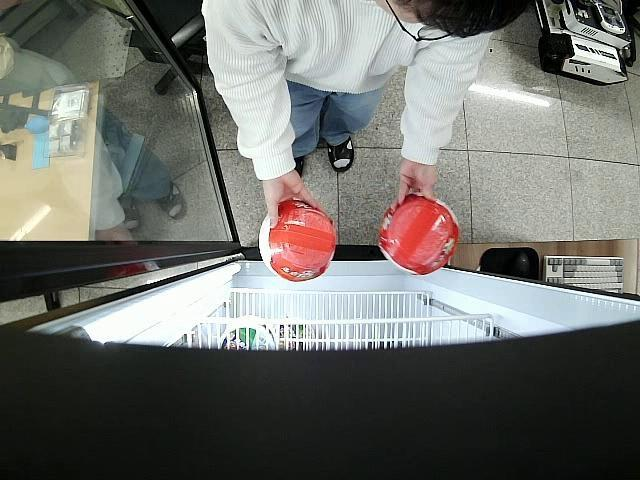10_wangTtukkeong: (378, 193, 460, 276), (258, 200, 337, 282)
